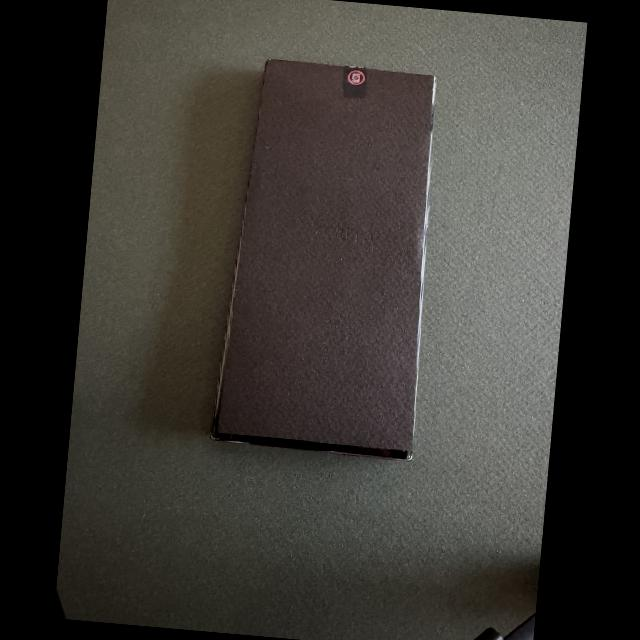phone: (212, 59, 436, 459)
sticker: (343, 66, 367, 98)
